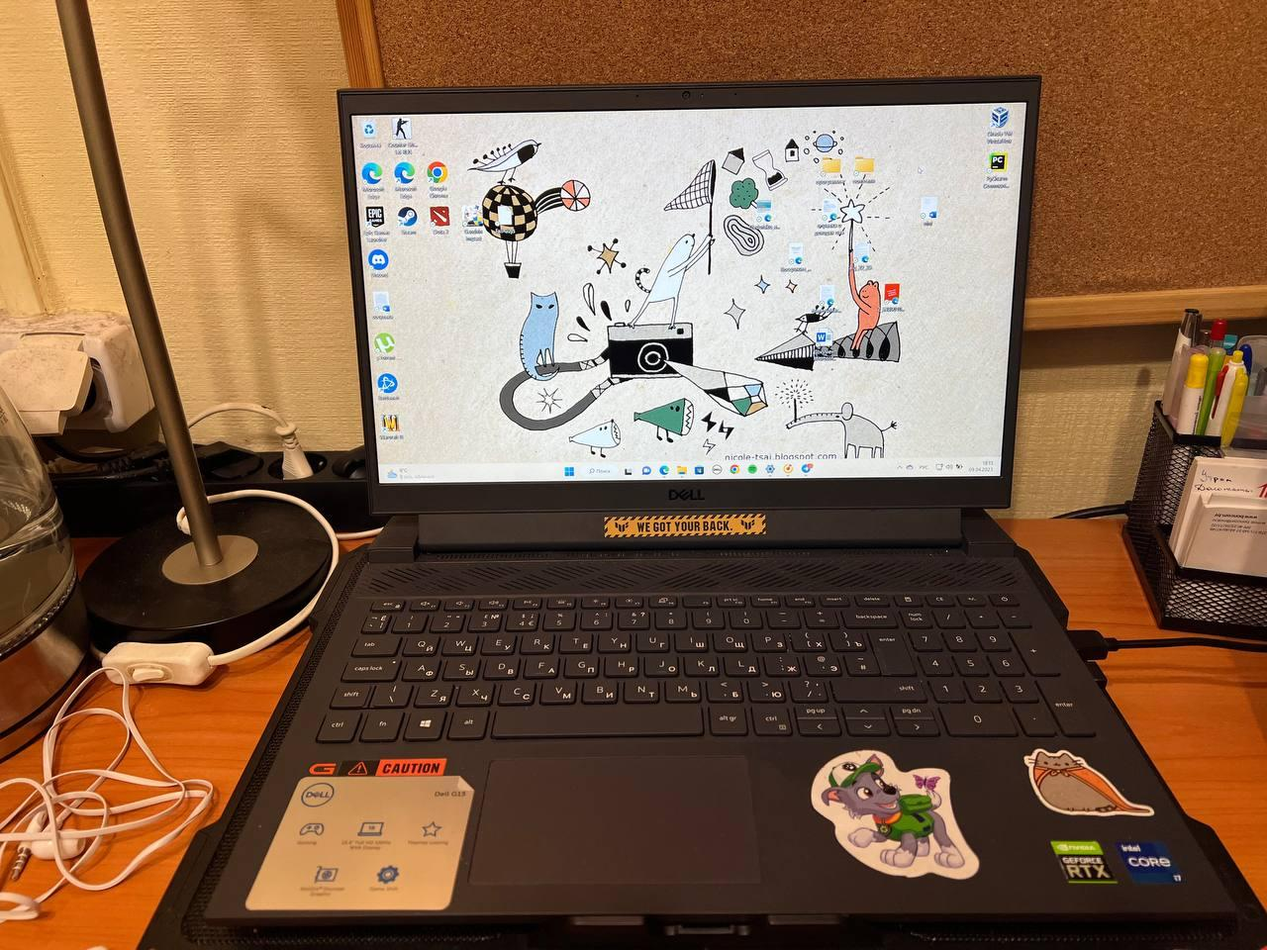monitor: (334, 68, 1046, 524)
